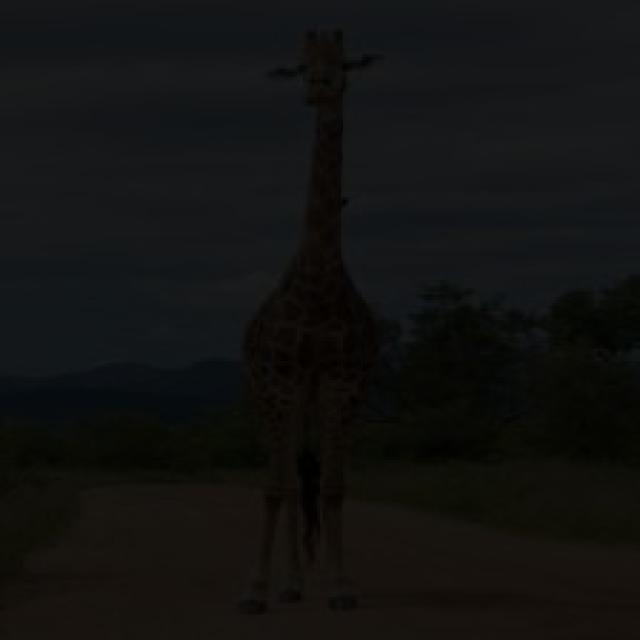animal: (178, 16, 480, 582)
